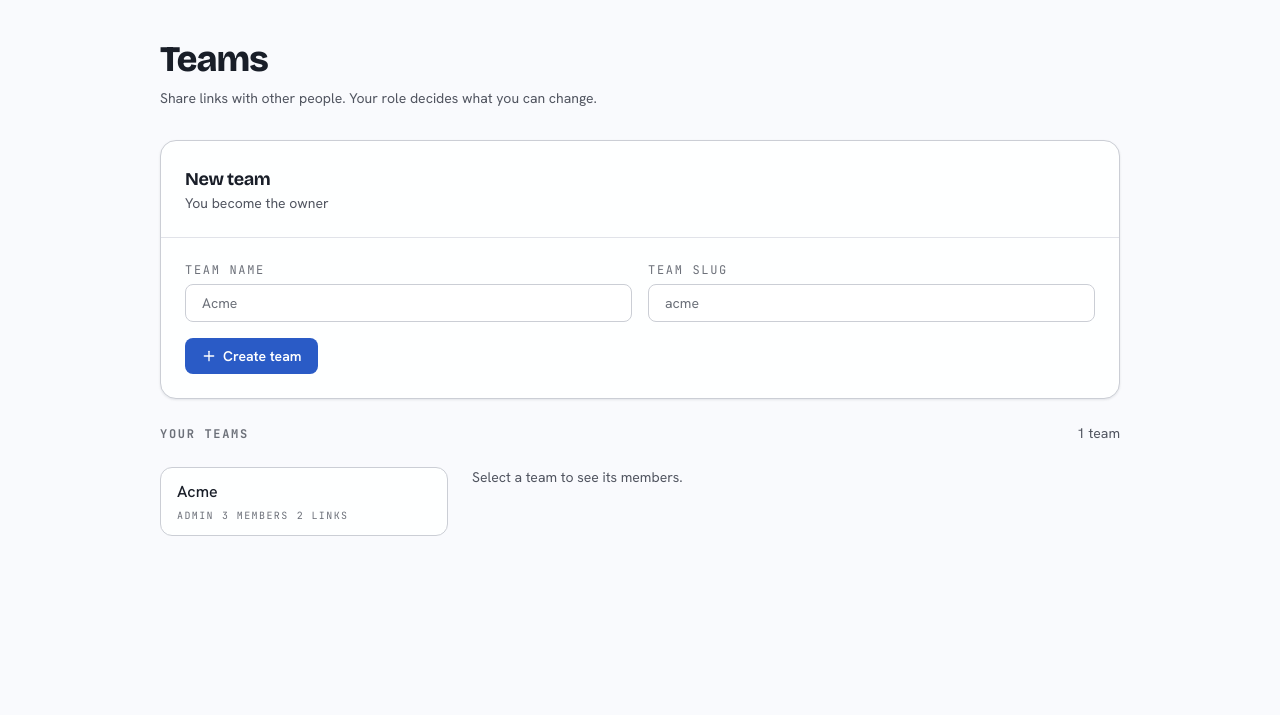
Scenario: Organizations page › admin sees only the controls that role allows
Click the button "Acme Admin 3 members 2 links": click(197, 492) [160,467,448,536]
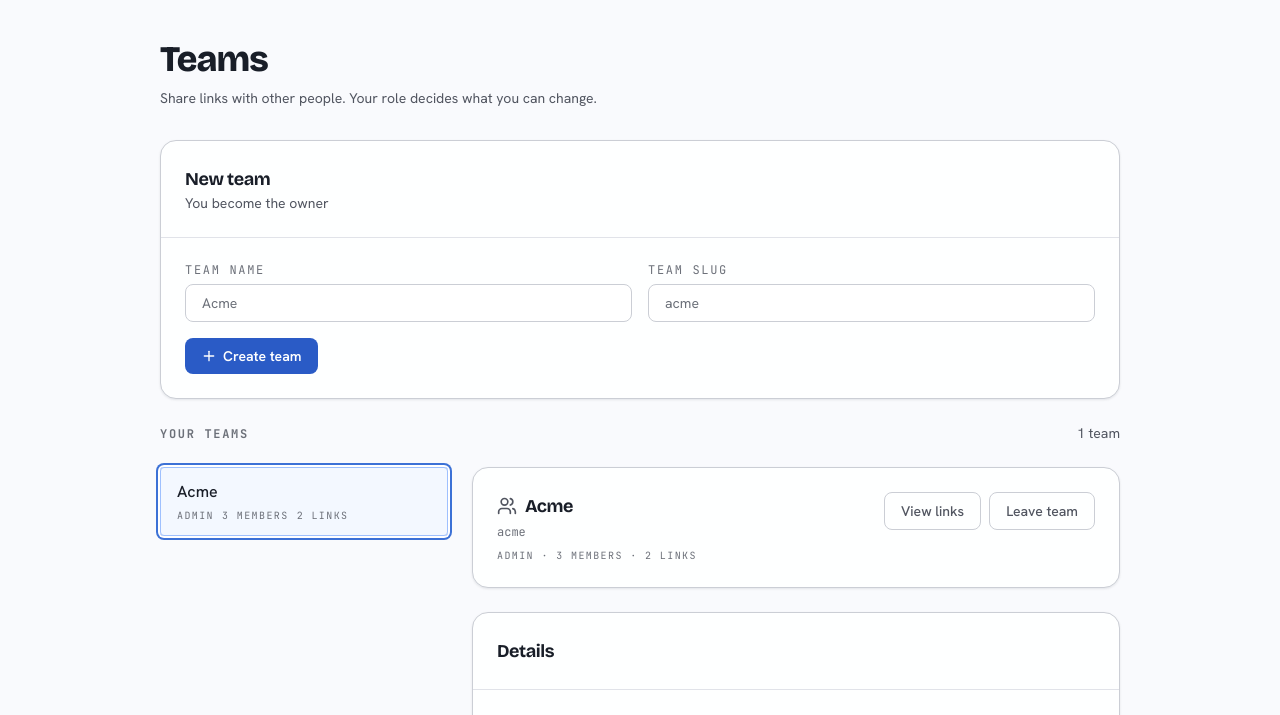
Result: the button "Leave team" is shown at [989,492,1095,530]
